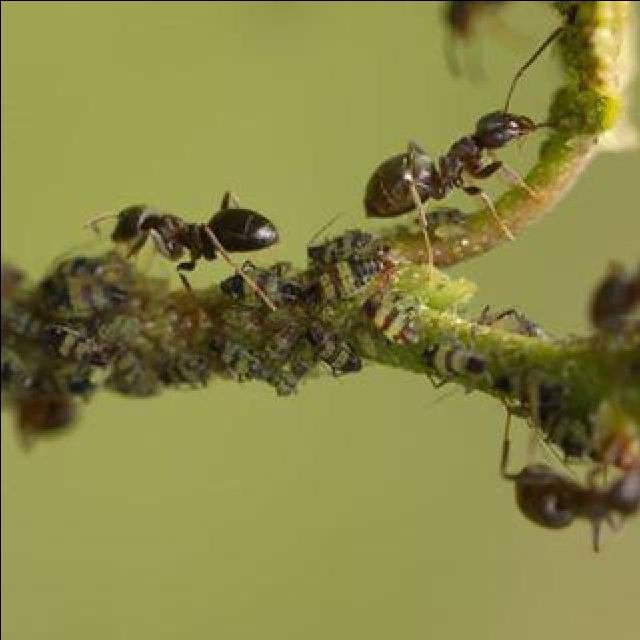aphid: (358, 104, 538, 228), (92, 193, 280, 270), (506, 442, 640, 538)
